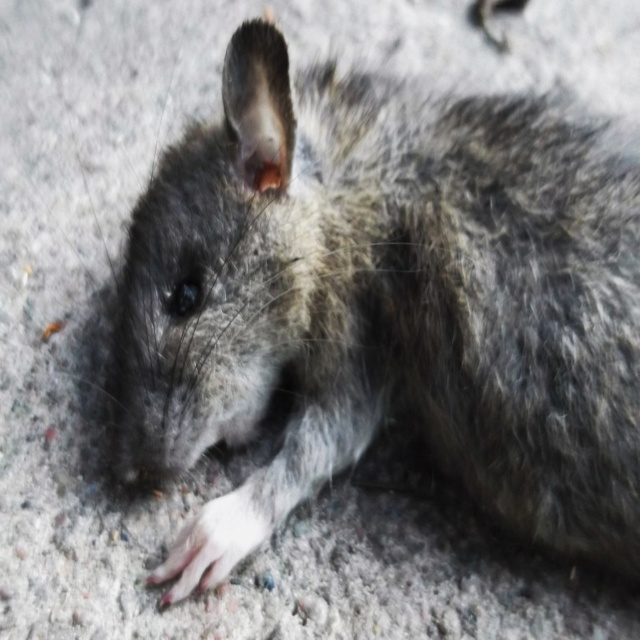Mouse: (66, 16, 640, 614)
